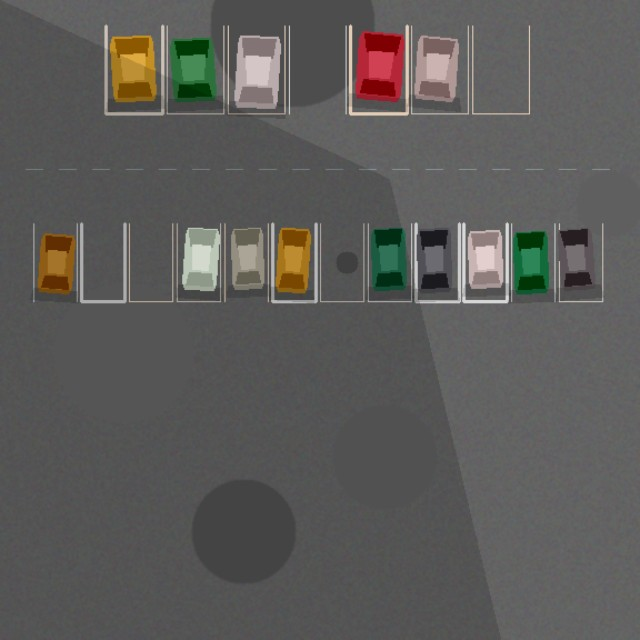space-empty: (289, 26, 346, 113), (472, 26, 529, 113), (81, 223, 124, 301), (129, 223, 172, 301), (320, 223, 363, 301)
space-occupied: (350, 26, 407, 113), (411, 26, 468, 113), (106, 26, 162, 113), (167, 26, 223, 113), (228, 26, 284, 113), (33, 223, 77, 301), (224, 223, 268, 301), (272, 223, 316, 301), (463, 223, 507, 301), (177, 223, 220, 301), (368, 223, 411, 301), (416, 223, 459, 301), (511, 223, 554, 301), (559, 223, 602, 301)
